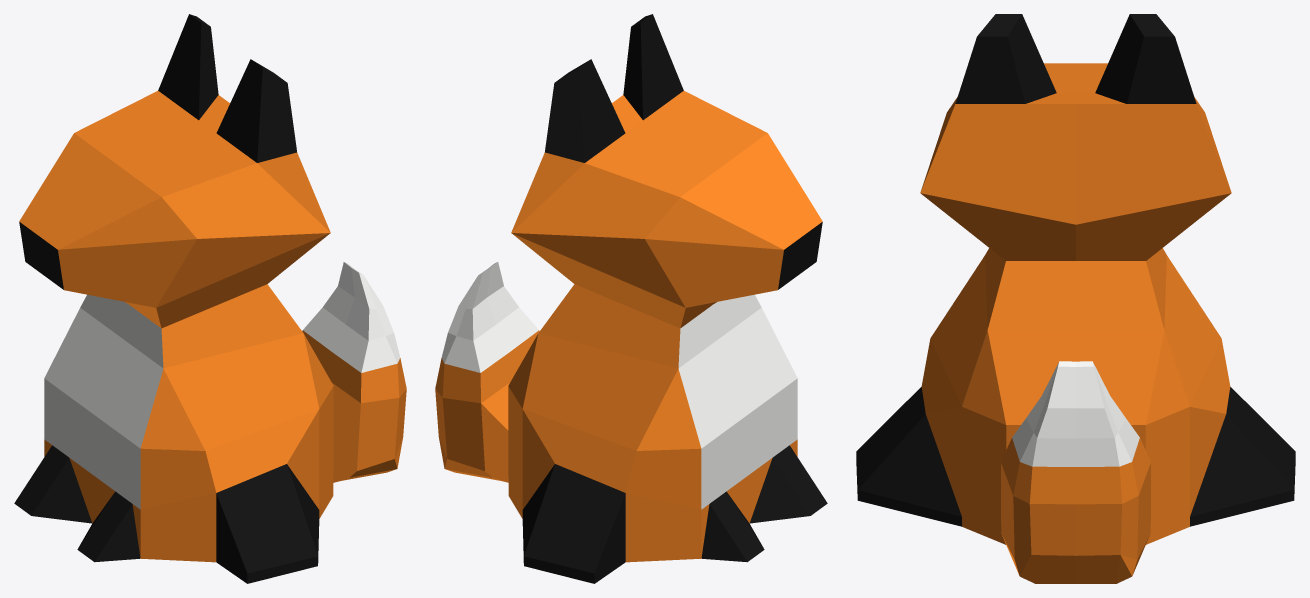
Rendered from Foxy.fbx.
The picture shows the model from 3 angles, left to right: view 1: azimuth 30°, elevation 25°; view 2: azimuth 150°, elevation 25°; view 3: azimuth 270°, elevation 25°; orthographic projection. The views are drawn at different scales.
Parts seen in each view (by area): view 1: Foxy_Mesh; view 2: Foxy_Mesh; view 3: Foxy_Mesh.
Part boxes in pixels (x1=…): Foxy_Mesh: x1=14, y1=14, x2=406, y2=583; Foxy_Mesh: x1=435, y1=14, x2=827, y2=583; Foxy_Mesh: x1=856, y1=14, x2=1295, y2=583.
Size of the model in its own units: 79.52 by 99.15 by 79.9.
1 material, 1 textured.
